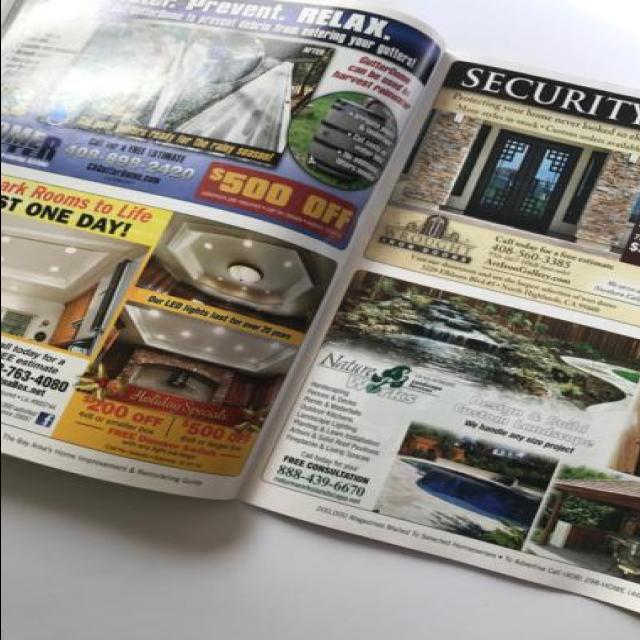kertas: (0, 0, 640, 623)
